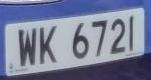1: (126, 13, 139, 53)
2: (109, 15, 129, 56)
6: (69, 18, 93, 65)
7: (90, 16, 110, 59)
K: (37, 22, 60, 69)
W: (15, 24, 40, 71)
